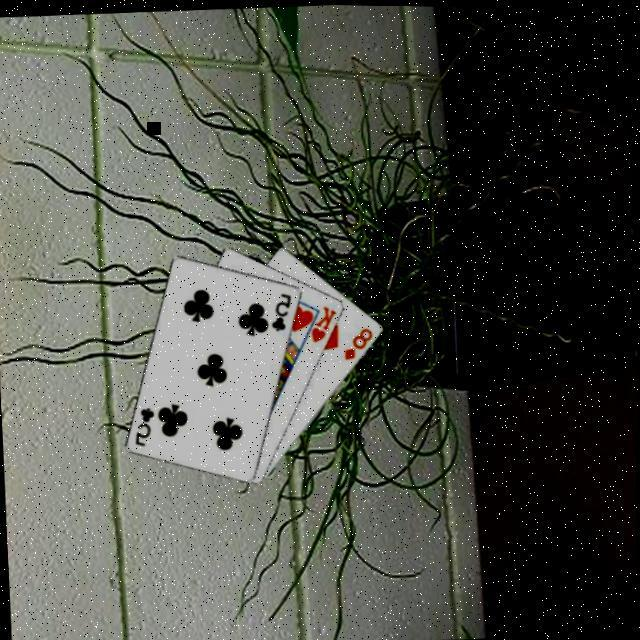5C: (130, 402, 158, 447), (267, 287, 295, 331)
8D: (339, 321, 376, 359)
KH: (307, 299, 341, 342)
